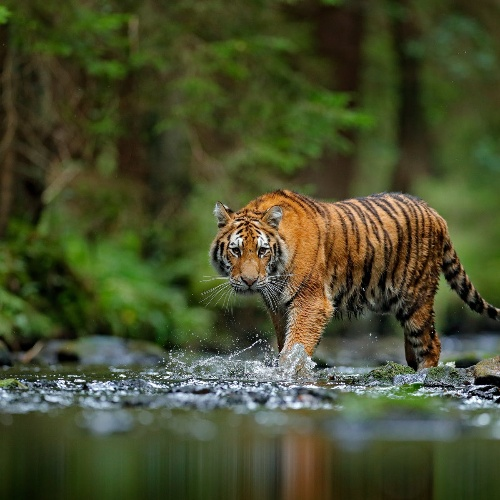tiger: (179, 155, 481, 441)
